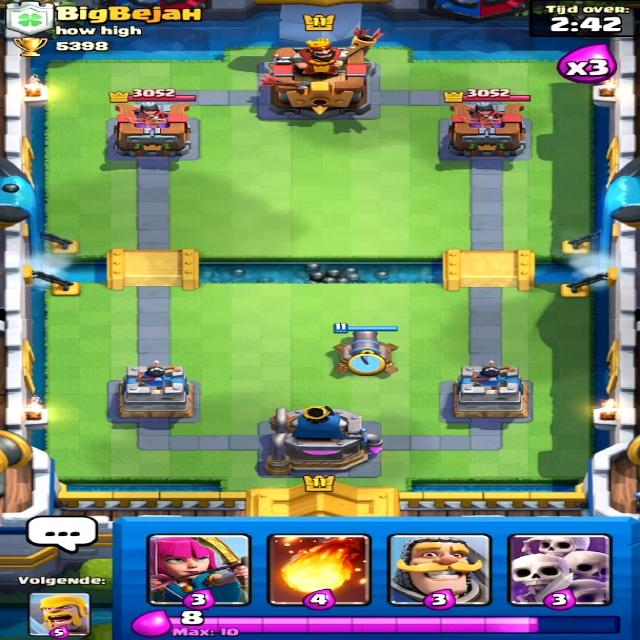Cannon_Troop: (319, 323, 408, 380)
Fireball_Card: (268, 534, 381, 606)
